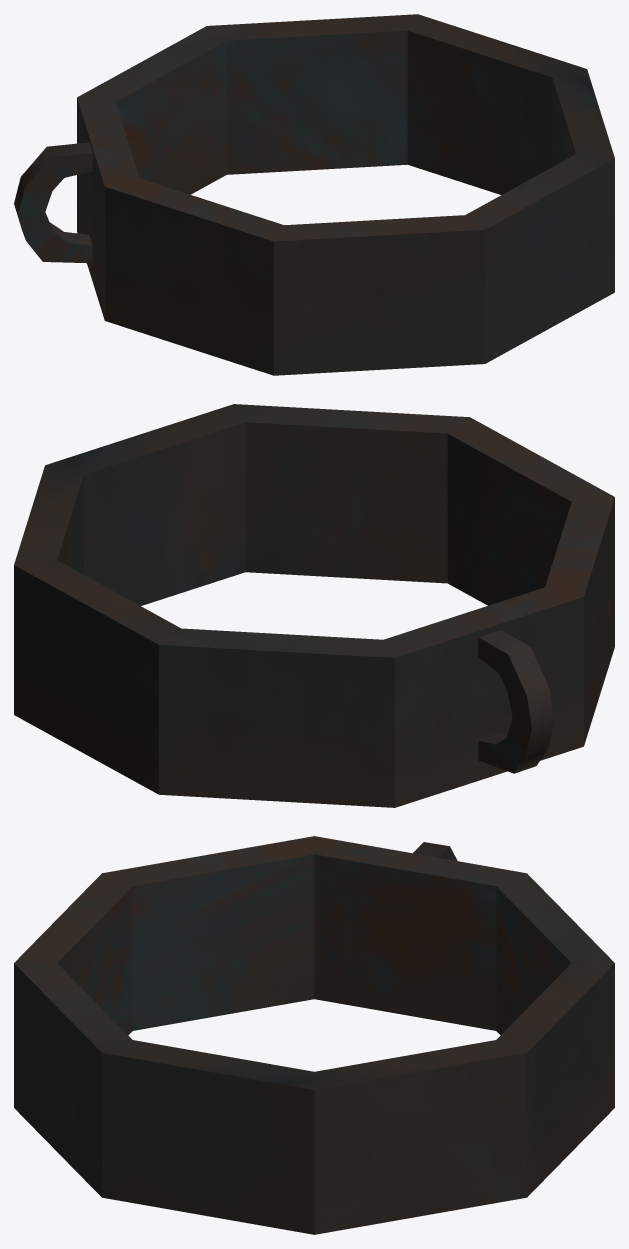
Rendered from neckChain.fbx.
3 views of the same model, one above another, from view 1: azimuth 30°, elevation 25°; view 2: azimuth 150°, elevation 25°; view 3: azimuth 270°, elevation 25° (orthographic). The views are drawn at different scales.
Parts seen in each view (by area): view 1: neckChain; view 2: neckChain; view 3: neckChain.
Boxes of the visible parts, left/top/right/bottom form: neckChain: left=14, top=14, right=614, bottom=375; neckChain: left=14, top=404, right=614, bottom=807; neckChain: left=14, top=836, right=614, bottom=1234.
Size of the model in its own units: 0.2966 by 0.0742 by 0.2791.
